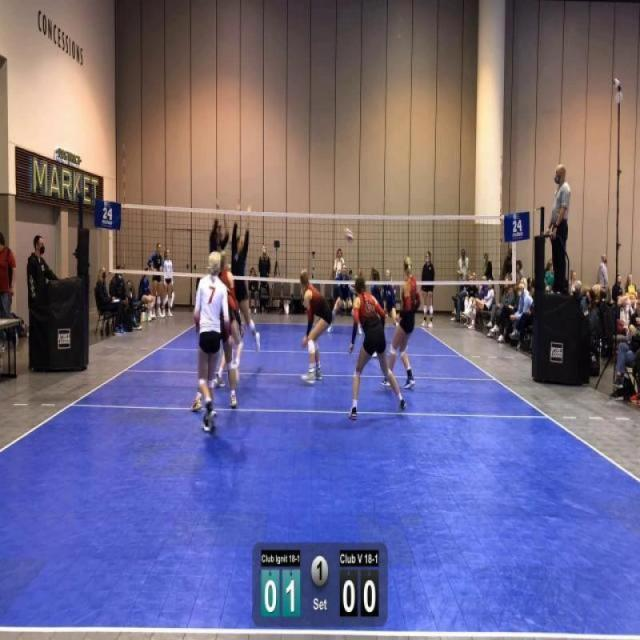volleyball: (343, 226, 355, 245)
